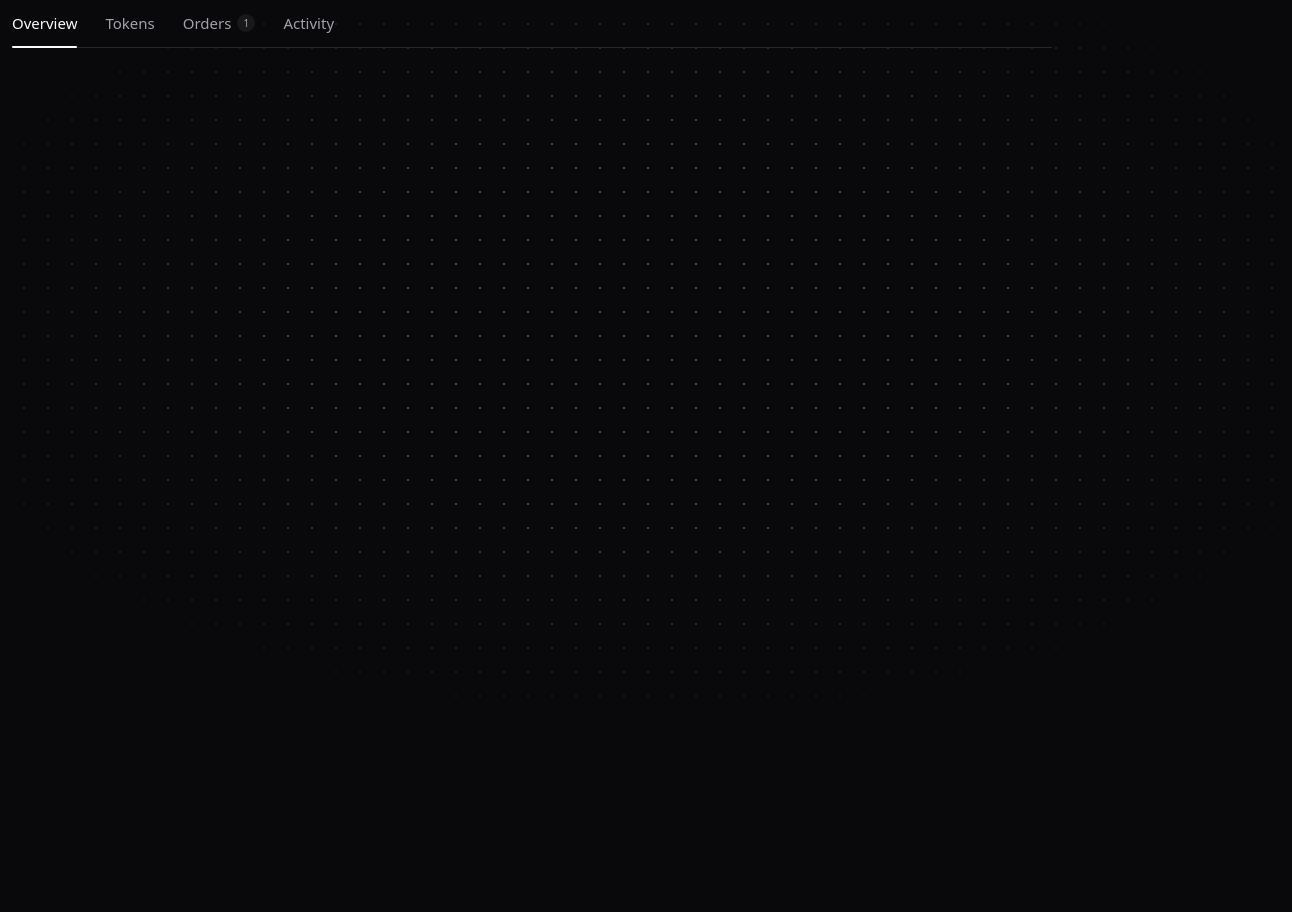
Test: keeps a same-transaction order with a sub-cent residual
The image size is (1292, 912).
Click the tab "Activity": (309, 29) [283,12,334,46]
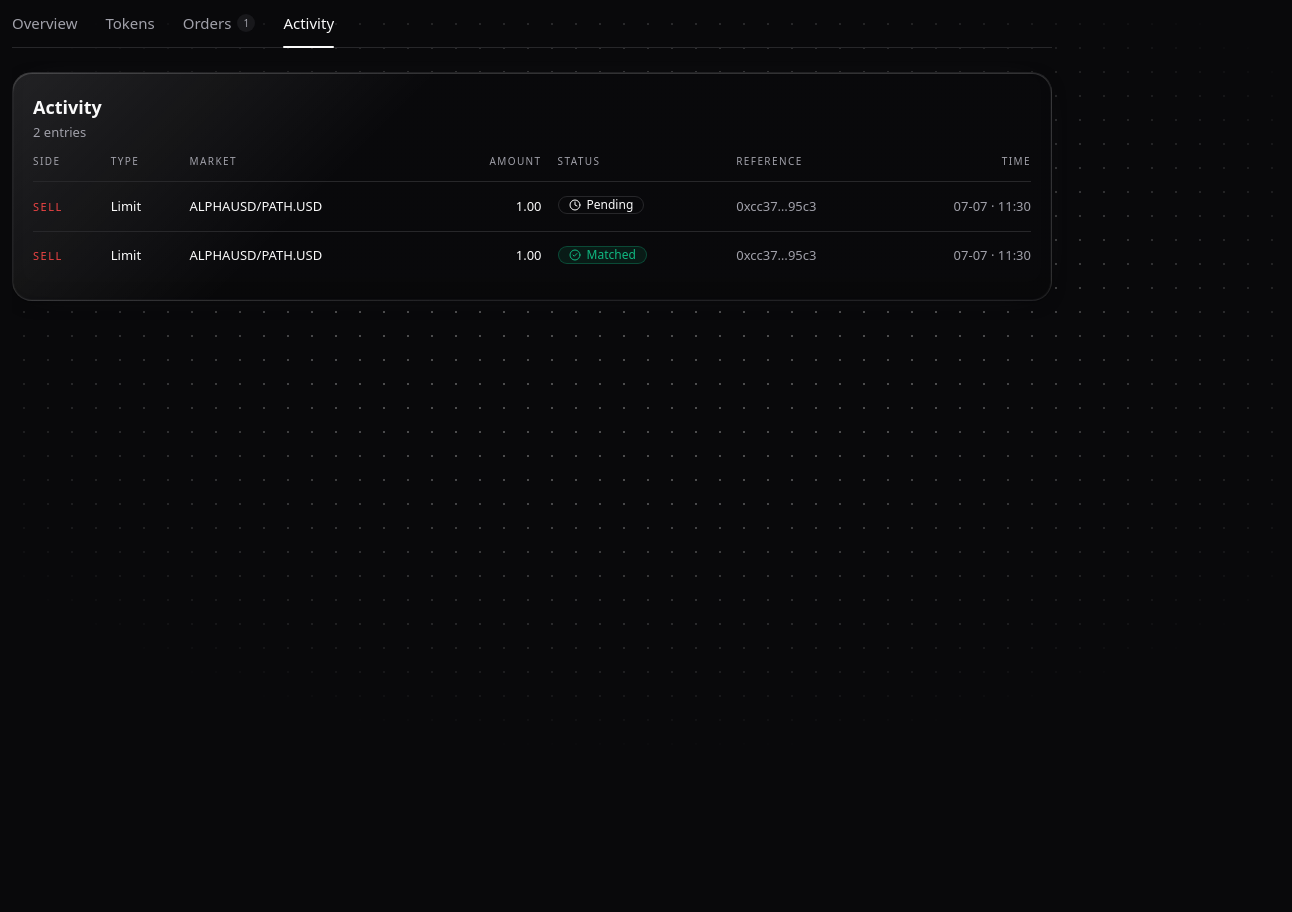
Check: the text "2 entries" is shown, box [33,122,86,140]
Check: the text "ALPHAUSD/PATH.USD" is shown 2 times, box [190,182,442,231]; [190,231,442,280]
